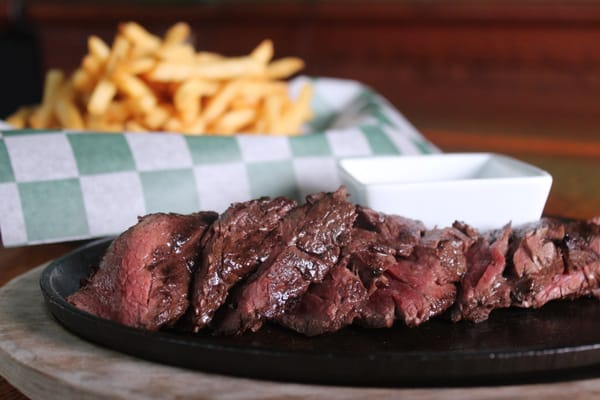curry: (3, 2, 600, 394)
